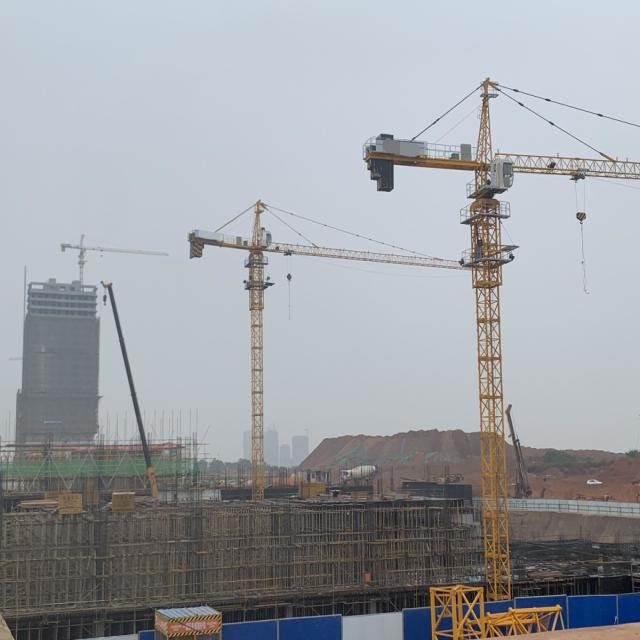crane: (362, 77, 640, 602), (187, 198, 500, 500), (100, 280, 159, 502), (60, 233, 169, 292)
